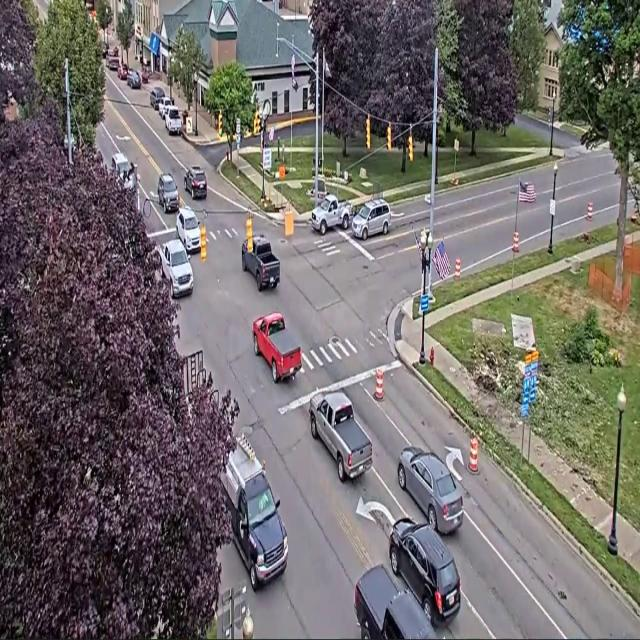car: (390, 518, 460, 625), (398, 447, 463, 534), (160, 240, 193, 297), (352, 200, 391, 240), (176, 208, 200, 252), (157, 174, 179, 213), (111, 152, 133, 188), (184, 166, 207, 199), (165, 106, 181, 135), (158, 96, 173, 119), (150, 87, 164, 110), (127, 70, 142, 89), (107, 56, 119, 71), (140, 66, 150, 84), (118, 64, 128, 79), (102, 42, 109, 58), (110, 47, 120, 58)
traffic signal: (199, 225, 207, 261), (246, 215, 252, 252), (253, 110, 261, 135), (408, 132, 413, 162), (366, 116, 370, 150), (387, 124, 391, 151), (218, 112, 222, 136), (548, 106, 552, 123)
truck: (222, 434, 287, 590), (354, 565, 437, 639), (309, 392, 372, 482), (253, 312, 301, 383), (242, 235, 280, 291), (311, 194, 352, 235)
